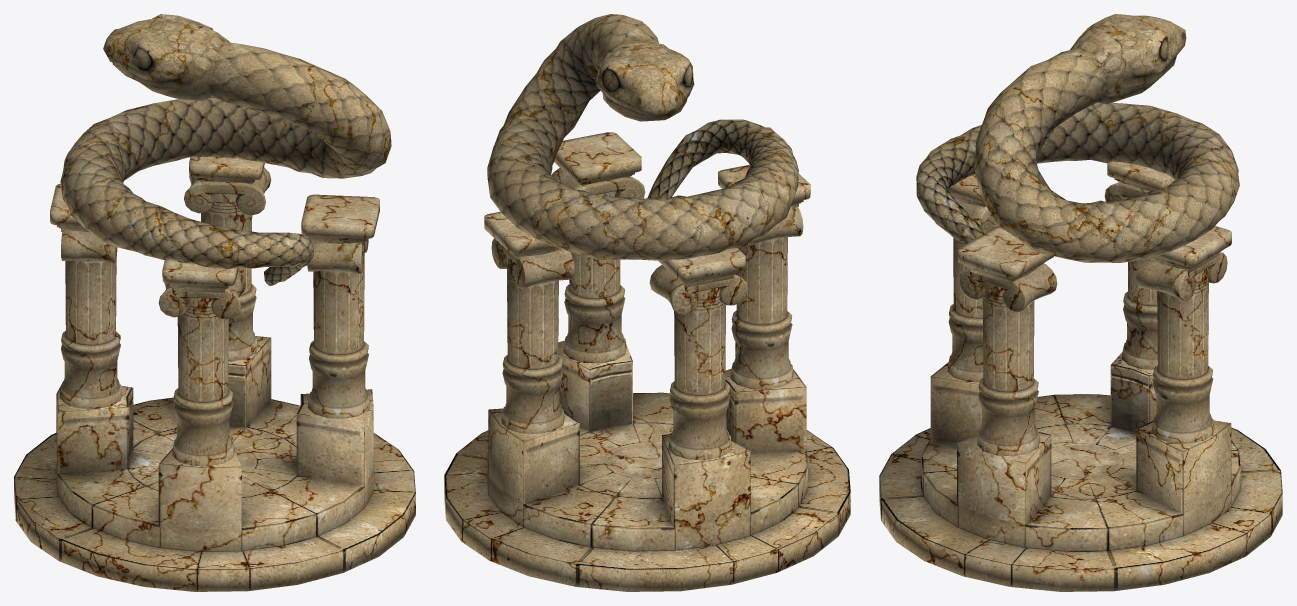
The model's file is snake_statue.glb.
3 renders of one model, left to right at view 1: azimuth 30°, elevation 25°; view 2: azimuth 150°, elevation 25°; view 3: azimuth 270°, elevation 25°, orthographic.
Visible parts, largest first — view 1: stone, snakelp; view 2: stone, snakelp; view 3: stone, snakelp.
Boxes of the visible parts, x1=… form: stone: x1=14, y1=156, x2=415, y2=591; snakelp: x1=60, y1=14, x2=391, y2=286; stone: x1=444, y1=132, x2=850, y2=591; snakelp: x1=487, y1=14, x2=798, y2=261; stone: x1=879, y1=161, x2=1282, y2=591; snakelp: x1=916, y1=14, x2=1239, y2=262.
Size of the model in its own units: 7.15 by 9.24 by 7.15.
Materials: 2 (2 with a texture image).
